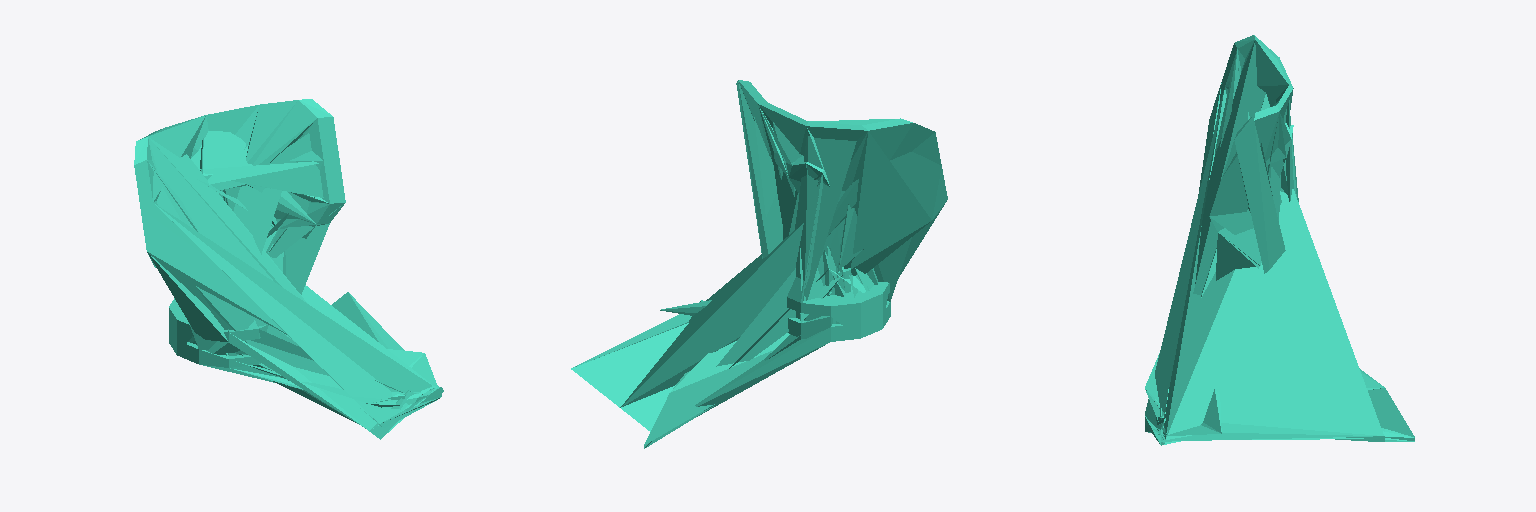
File: TURRET02.obj
The picture shows the model from 3 angles: view 1: azimuth 30°, elevation 25°; view 2: azimuth 150°, elevation 25°; view 3: azimuth 270°, elevation 25°; orthographic projection.
Visible parts, largest first — view 1: Object001, Object003, Object004, Object005; view 2: Object001, Object003, Object005, Object004; view 3: Object001, Object003, Object004, Object005.
Part boxes in pixels (x1,y1,x2,y2): Object001: (147,106,443,439); Object003: (135,100,405,403); Object004: (135,100,404,403); Object005: (134,99,345,367); Object001: (571,81,947,431); Object003: (644,88,944,447); Object005: (738,80,941,341); Object004: (644,106,946,448); Object001: (1145,40,1414,445); Object003: (1145,40,1414,441); Object004: (1145,41,1414,441); Object005: (1209,35,1293,231).
Size of the model in its own units: 4.53 by 4.72 by 3.67.